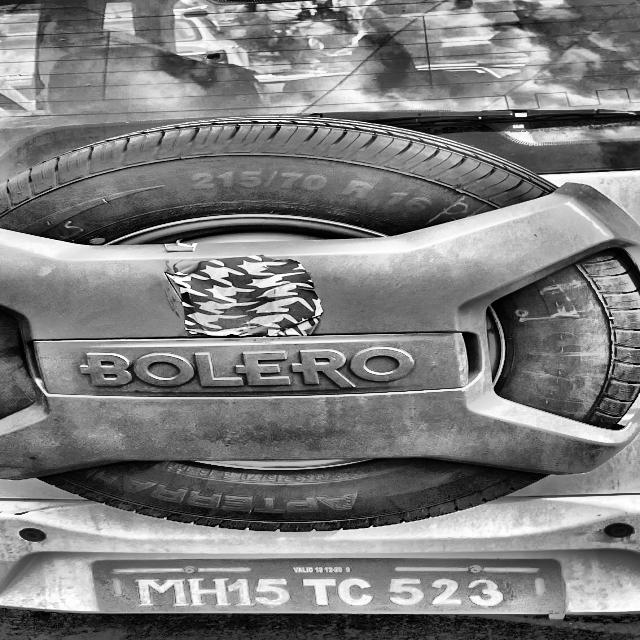light_vehicle: (0, 0, 640, 617)
